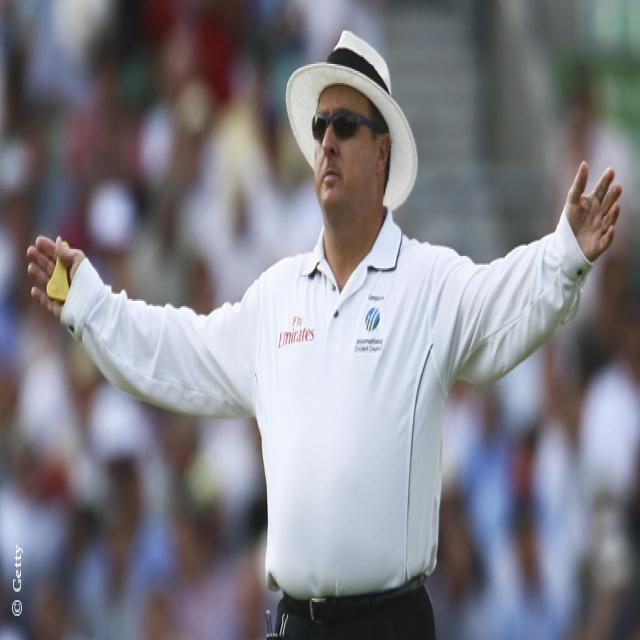Wide: (16, 21, 629, 640)
